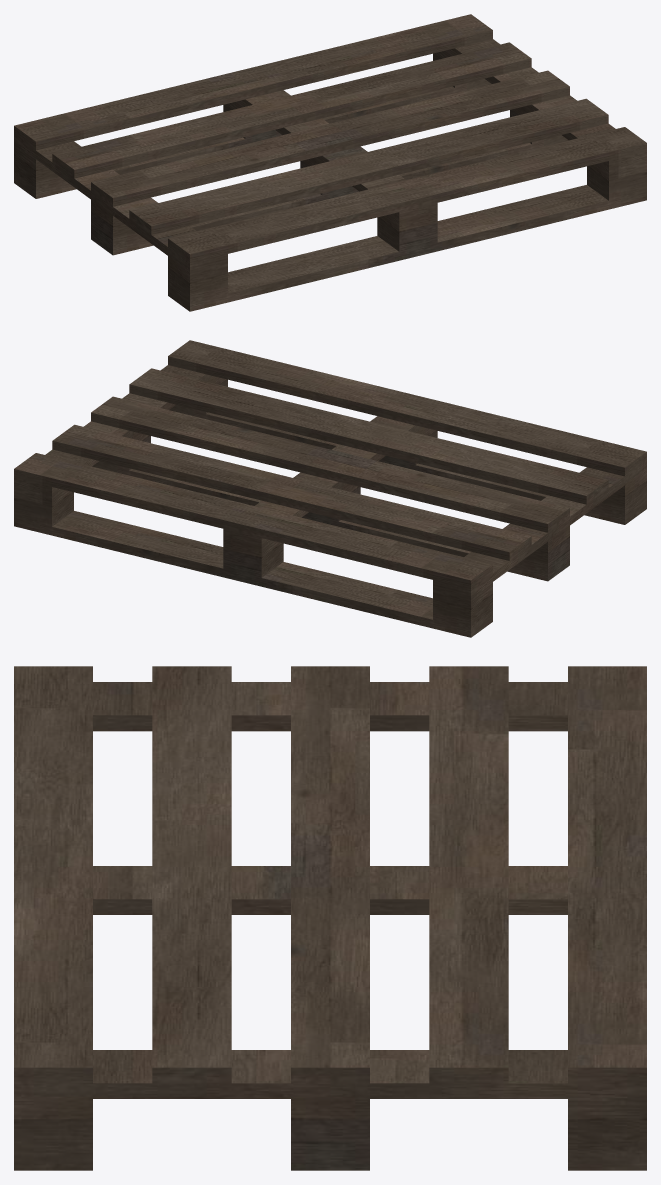
File: pallet.glb
3 views of the same model, one above another, from view 1: azimuth 30°, elevation 25°; view 2: azimuth 150°, elevation 25°; view 3: azimuth 270°, elevation 25° (orthographic). The views are drawn at different scales.
Visible parts, largest first — view 1: pallet; view 2: pallet; view 3: pallet.
Part boxes in pixels (bbox=[...]): pallet: bbox=[14, 14, 646, 311]; pallet: bbox=[14, 340, 646, 637]; pallet: bbox=[14, 666, 646, 1170].
Bounding box in the file's own units: 1.2 × 0.144 × 0.8.
1 material, 1 textured.
